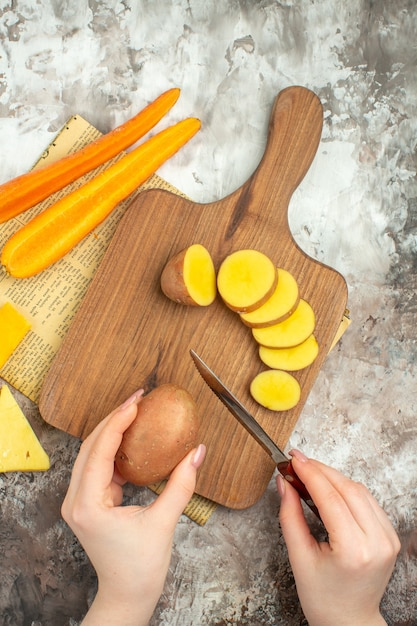knife: (194, 349, 323, 519)
